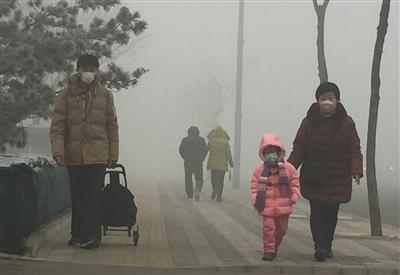person: (47, 53, 133, 253), (287, 78, 368, 263), (248, 131, 301, 263), (172, 122, 210, 202), (205, 125, 238, 203)
